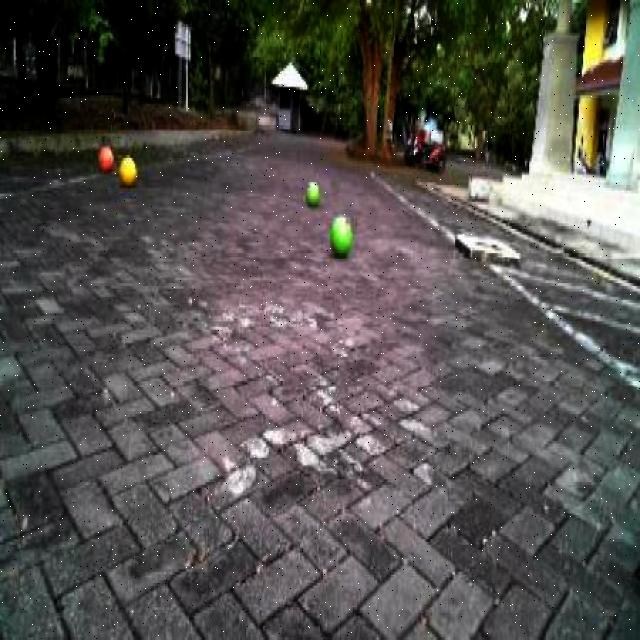buoy: (328, 206, 352, 259), (117, 150, 139, 190), (95, 140, 114, 176), (304, 173, 320, 205)
